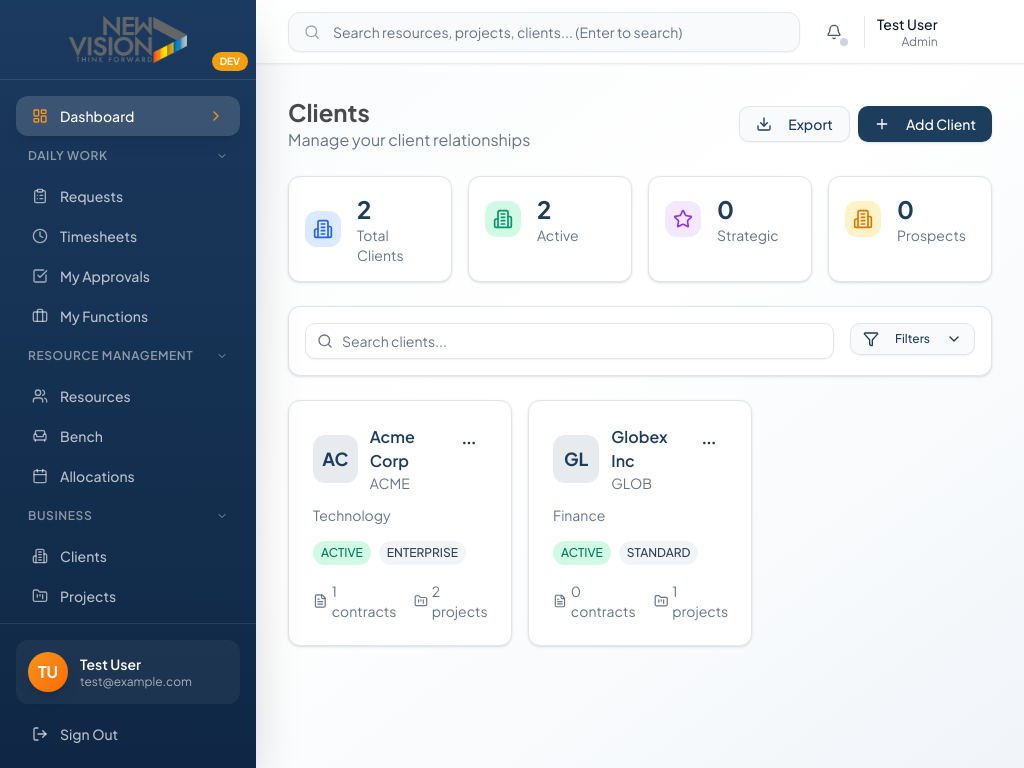
ClientsPage › Add Client Flow › opens Add Client modal when clicking Add button
Click the button "Add Client" at (925, 124), box [858,106,992,142]
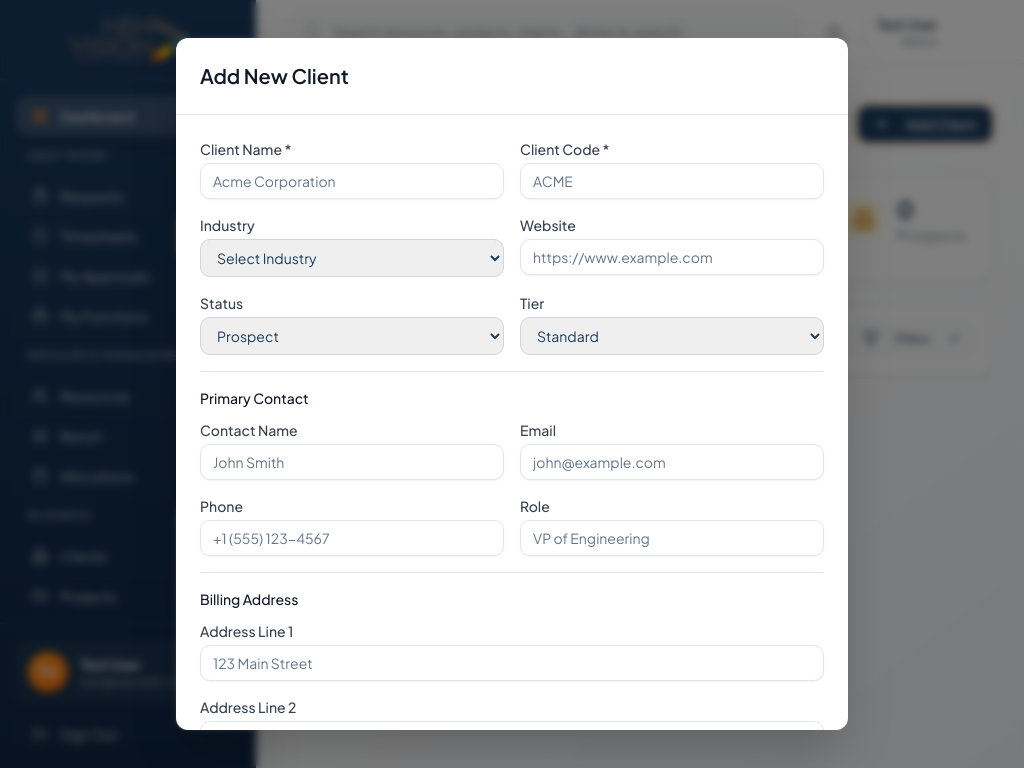
expect the heading "Add New Client" is shown: met, box [200,63,349,88]
